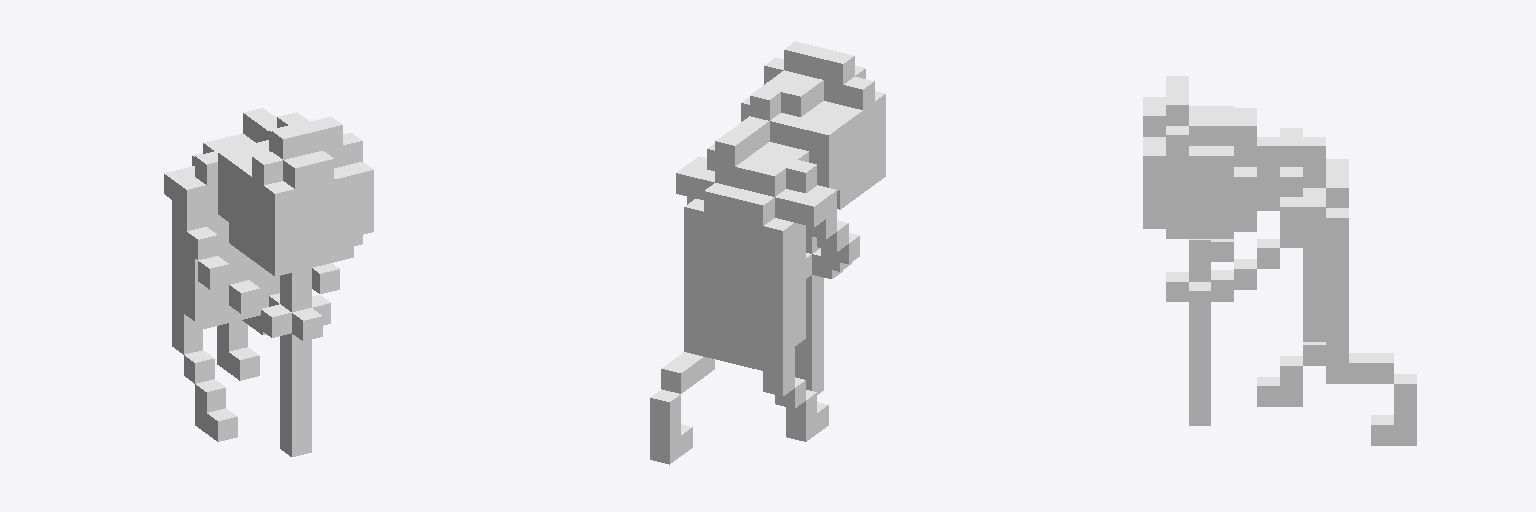
File: SwingingNinjaCharater-5.obj
The picture shows the model from 3 angles: view 1: azimuth 30°, elevation 25°; view 2: azimuth 150°, elevation 25°; view 3: azimuth 270°, elevation 25°; orthographic projection.
Visible parts, largest first — view 1: SwingingNinjaCharater-5; view 2: SwingingNinjaCharater-5; view 3: SwingingNinjaCharater-5.
Boxes of the visible parts, x1,y1,x2,y2 form: SwingingNinjaCharater-5: [164, 108, 373, 456]; SwingingNinjaCharater-5: [650, 41, 885, 464]; SwingingNinjaCharater-5: [1143, 76, 1416, 445].
Bounding box in the file's own units: 7 × 16 × 12.